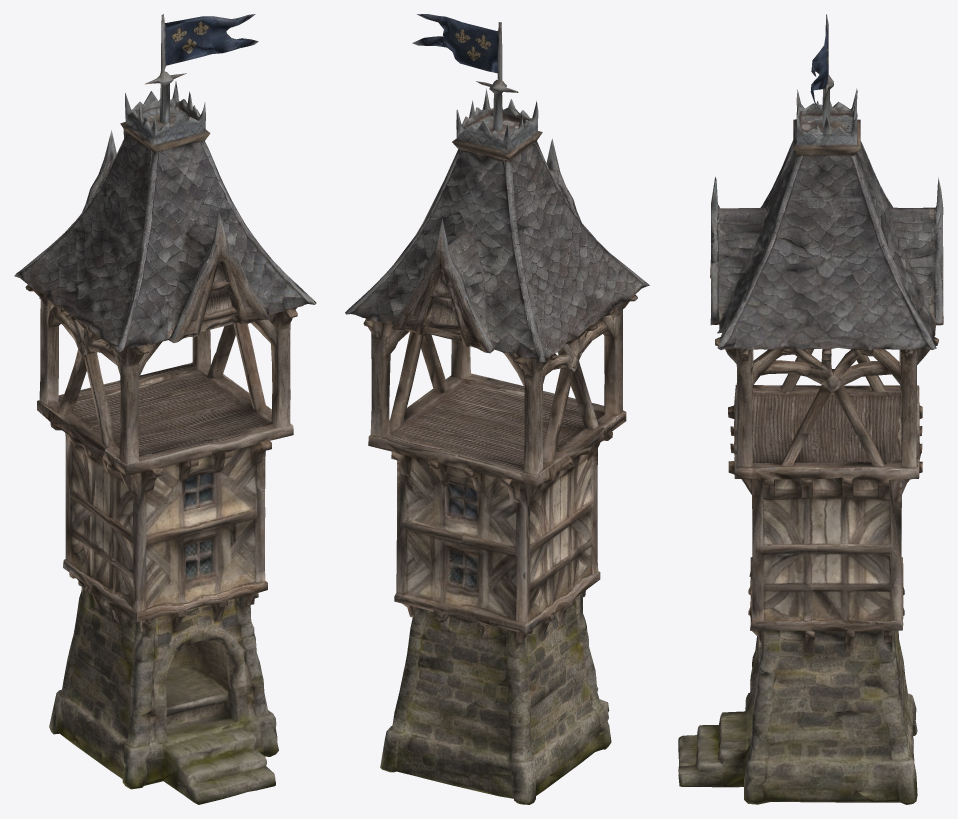
The model's file is belfry.glb.
3 renders of one model, left to right at view 1: azimuth 30°, elevation 25°; view 2: azimuth 150°, elevation 25°; view 3: azimuth 270°, elevation 25°, orthographic. The views are drawn at different scales.
Visible parts, largest first — view 1: belfry; view 2: belfry; view 3: belfry.
Part boxes in pixels (x1,y1,x2,y2): belfry: (14, 14, 316, 804); belfry: (345, 14, 649, 804); belfry: (678, 14, 943, 804).
Size of the model in its own units: 0.5437 by 1.9 by 0.6071.
Materials: 1 (1 with a texture image).
